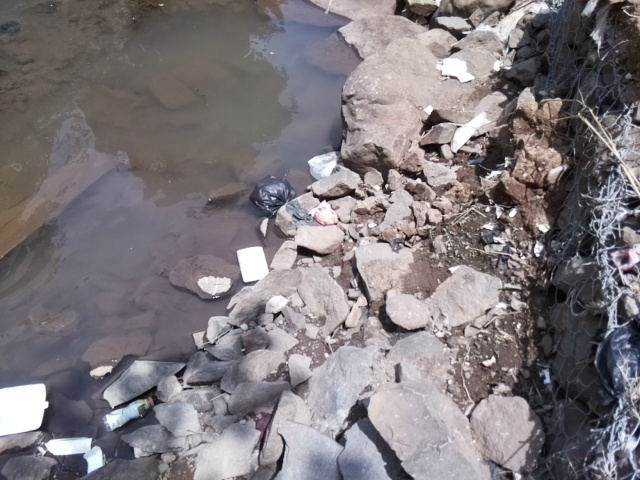Sampah_Botol_Plastik: (100, 396, 159, 432)
Sampah_Plastik: (249, 172, 297, 215), (306, 149, 341, 180)
Sampah_Styrofoam: (1, 382, 52, 438), (47, 436, 102, 474), (234, 243, 273, 285), (438, 53, 477, 87)
